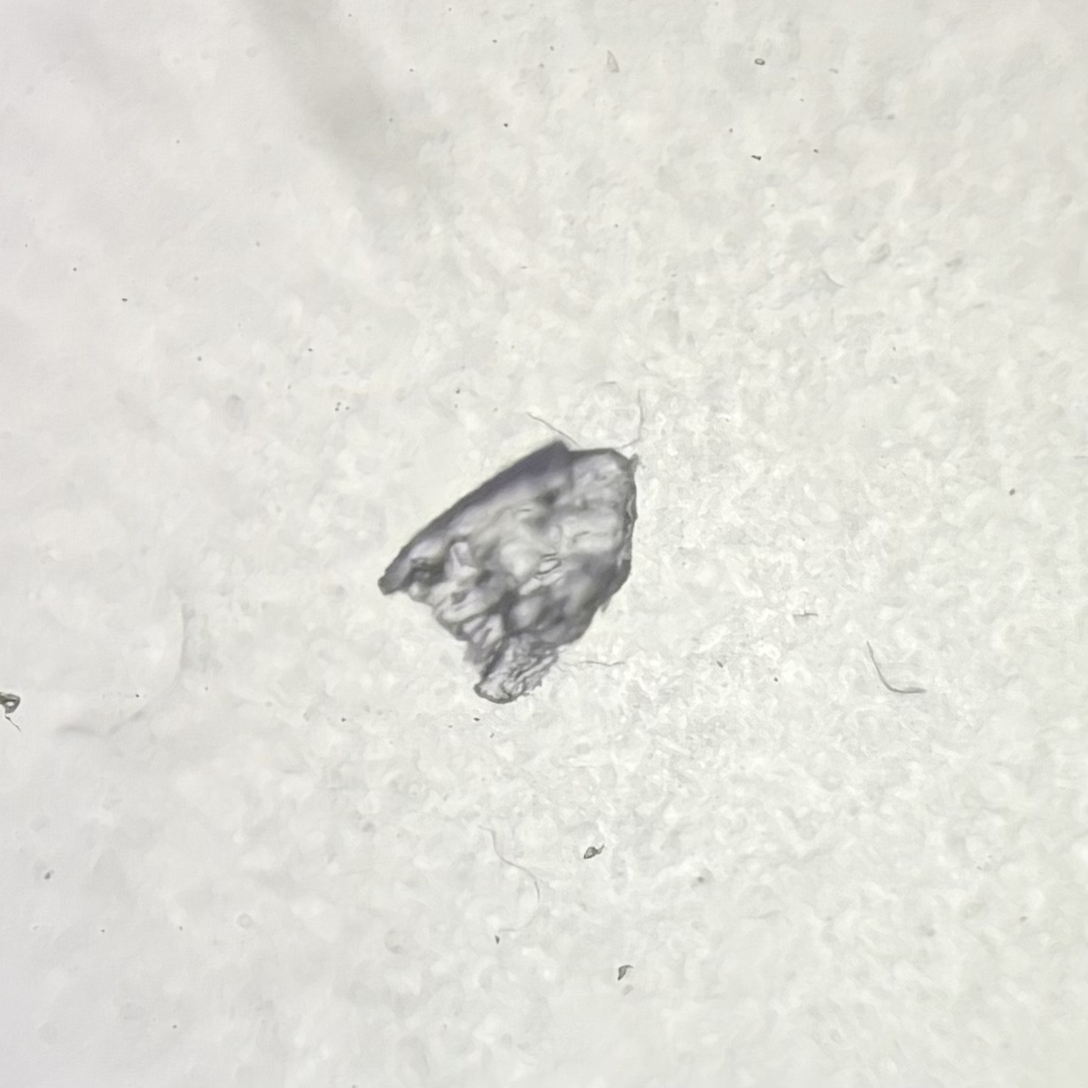microplastic: (381, 443, 635, 701)
